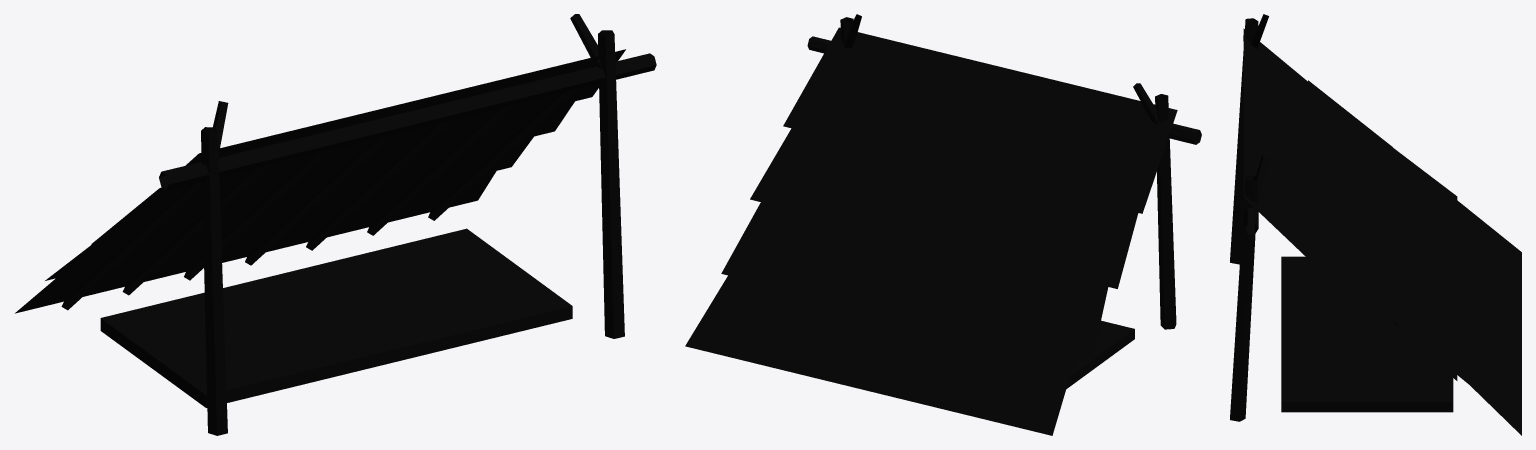
File: SM_lean_to.fbx
3 renders of one model, left to right at view 1: azimuth 30°, elevation 25°; view 2: azimuth 150°, elevation 25°; view 3: azimuth 270°, elevation 25°, orthographic. The views are drawn at different scales.
Parts seen in each view (by area): view 1: lean_to; view 2: lean_to; view 3: lean_to.
Part boxes in pixels (x1,y1,x2,y2): lean_to: (15,14,656,435); lean_to: (685,14,1201,435); lean_to: (1230,14,1521,435).
Bounding box in the file's own units: 3.2 × 1.99 × 2.04.
